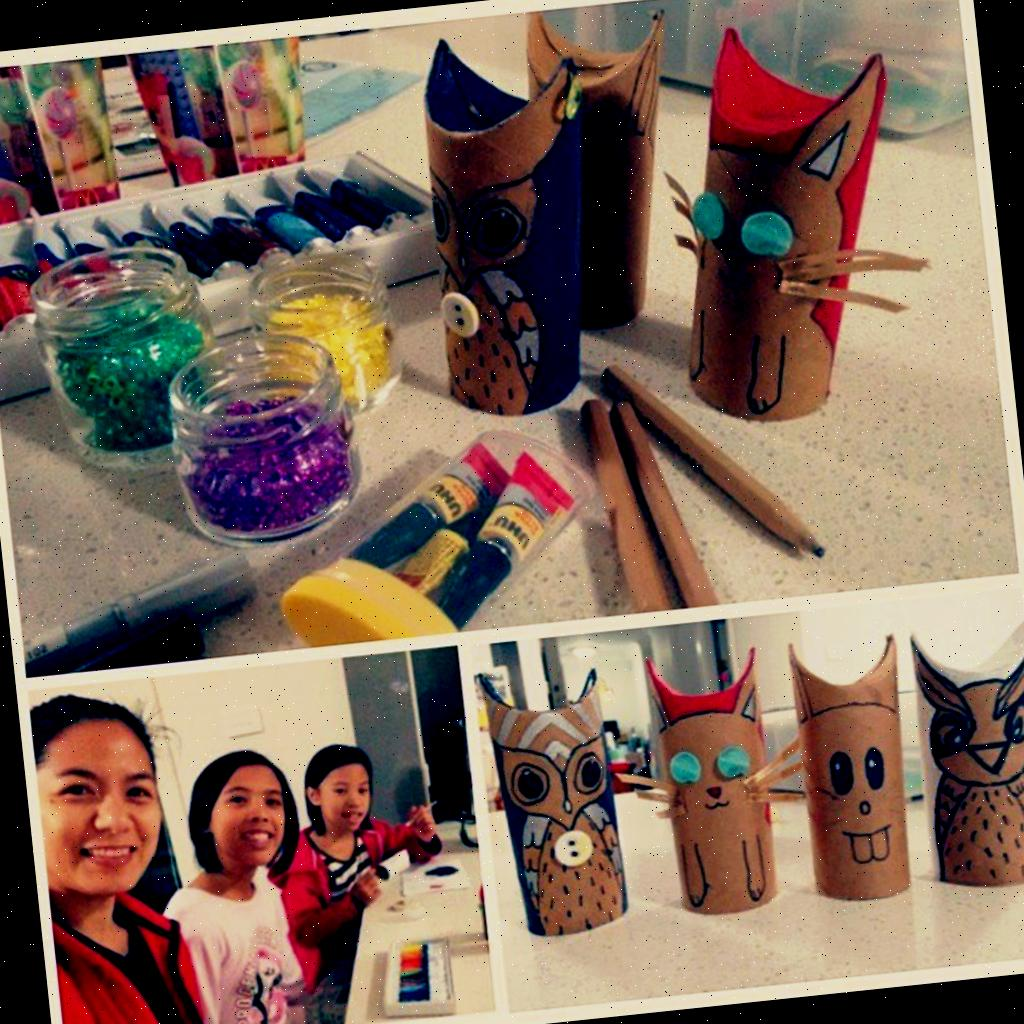Owl: (404, 18, 609, 422), (476, 662, 639, 936), (901, 611, 1024, 895)
